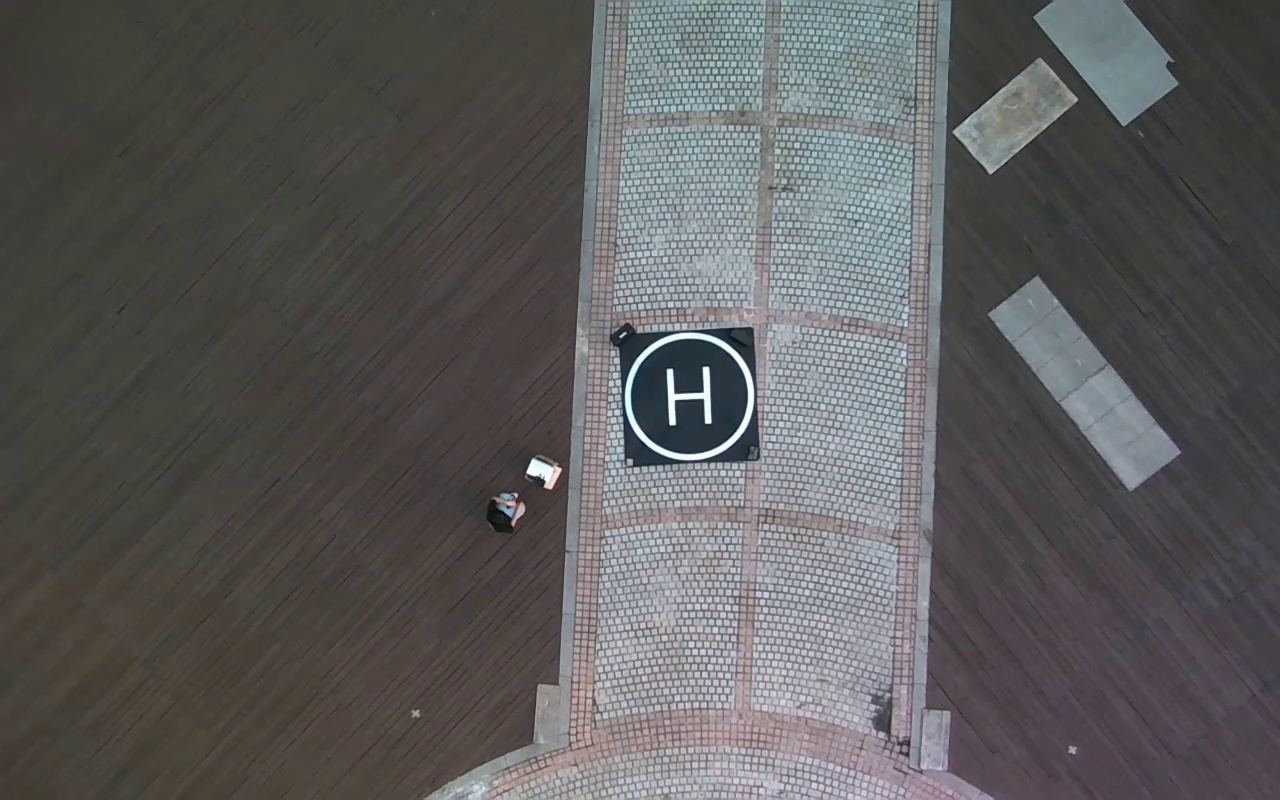H: (665, 366, 713, 427)
heliport: (625, 333, 755, 462)
